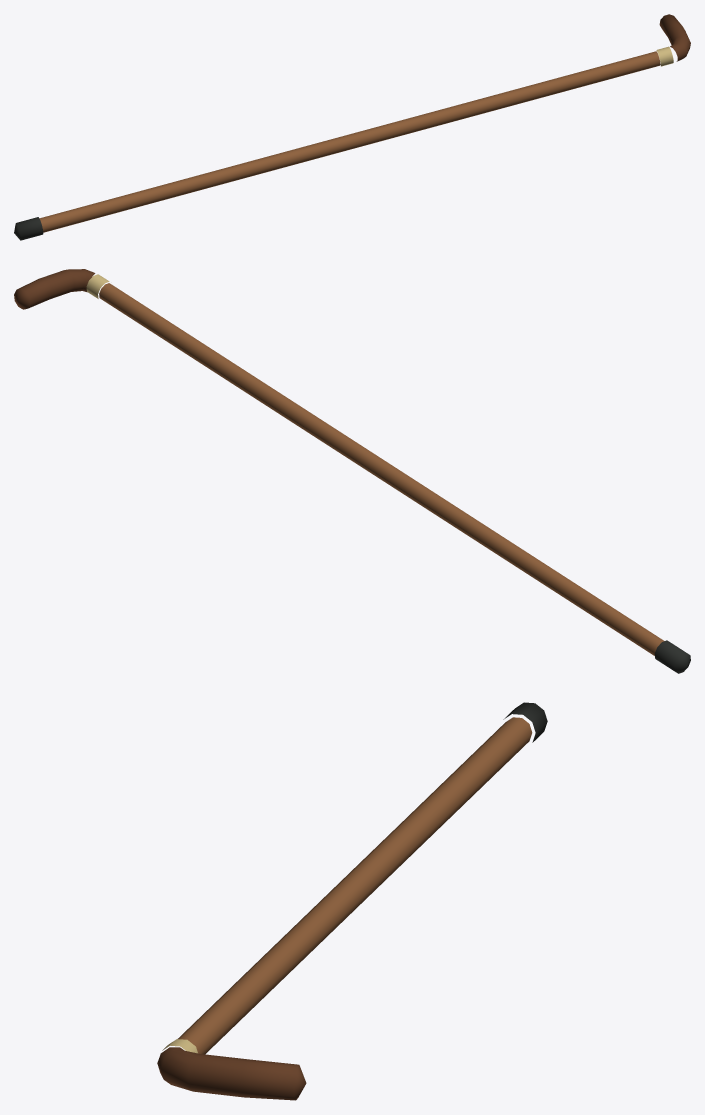
Rendered from old-cane-nathan.glb.
The picture shows the model from 3 angles, top to bottom: view 1: azimuth 30°, elevation 25°; view 2: azimuth 150°, elevation 25°; view 3: azimuth 270°, elevation 25°; orthographic projection. The views are drawn at different scales.
Parts seen in each view (by area): view 1: Acc_Male_Hand_Cane; view 2: Acc_Male_Hand_Cane; view 3: Acc_Male_Hand_Cane.
Boxes of the visible parts, x1,y1,x2,y2 form: Acc_Male_Hand_Cane: (14,14,690,240); Acc_Male_Hand_Cane: (14,269,690,673); Acc_Male_Hand_Cane: (157,702,547,1100).
Bounding box in the file's own units: 0.9328 × 0.1832 × 0.2615.
